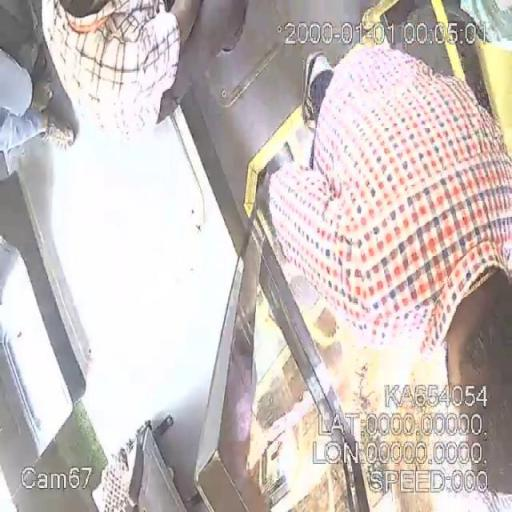persona: (265, 38, 511, 508), (38, 1, 247, 140), (1, 46, 78, 164)
